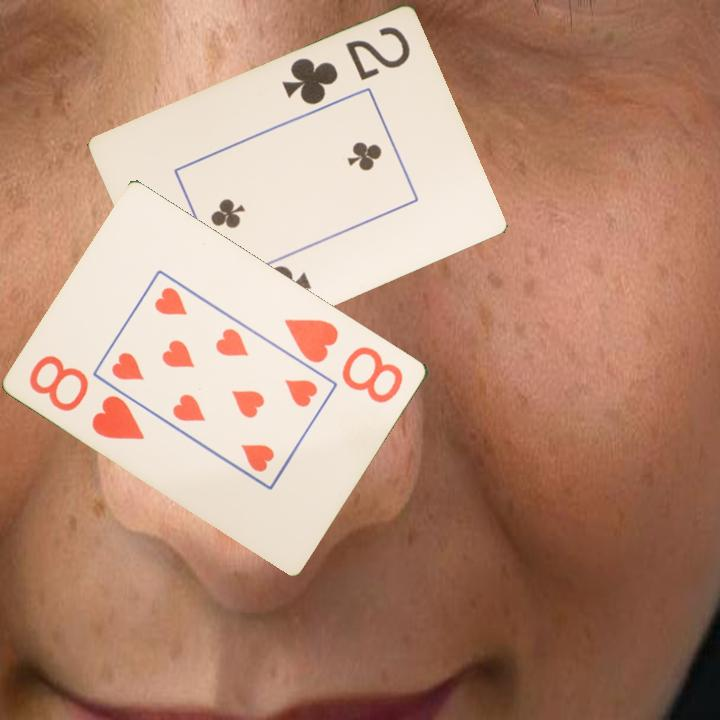2c: (278, 23, 413, 109)
8h: (281, 314, 407, 406), (26, 351, 148, 443)
